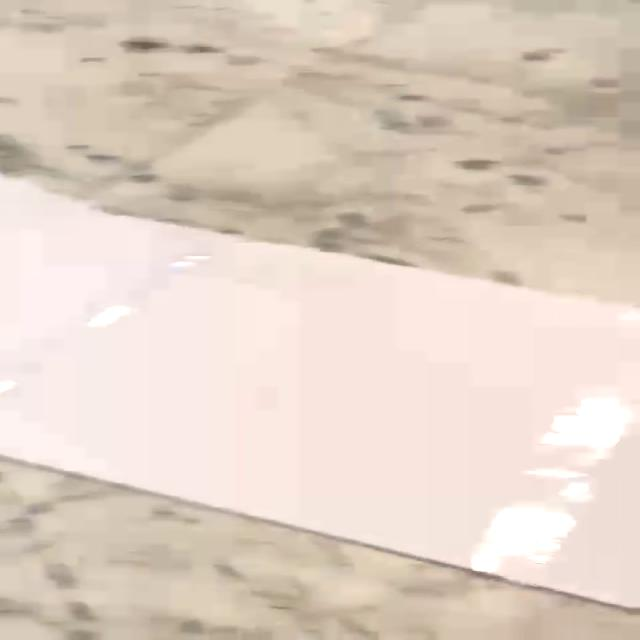road: (0, 177, 637, 607)
